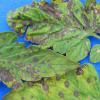Tomato Septoria leaf spot: (5, 2, 99, 63), (0, 29, 82, 91), (2, 59, 97, 99)
